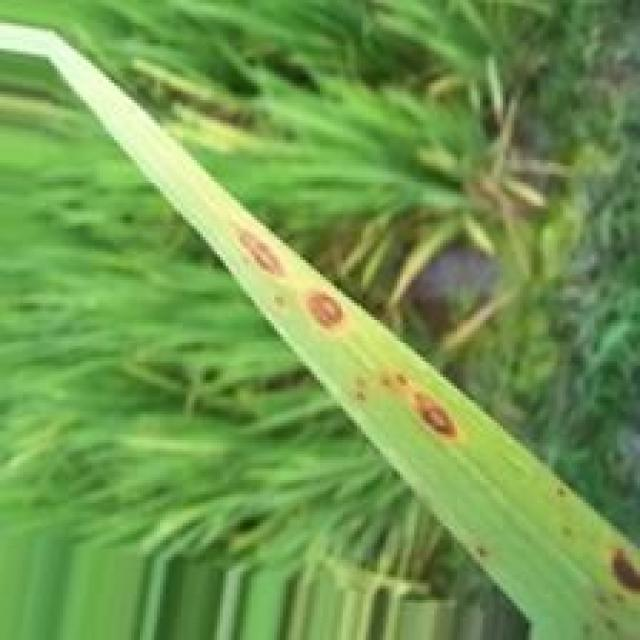Brown_Spot: (379, 365, 468, 446), (231, 221, 292, 283), (297, 283, 354, 338), (609, 545, 640, 596)
